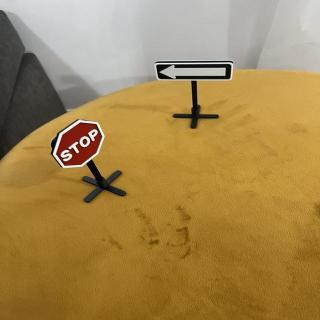sign_oneway_left: (155, 60, 236, 85)
sign_stop: (50, 117, 107, 170)
